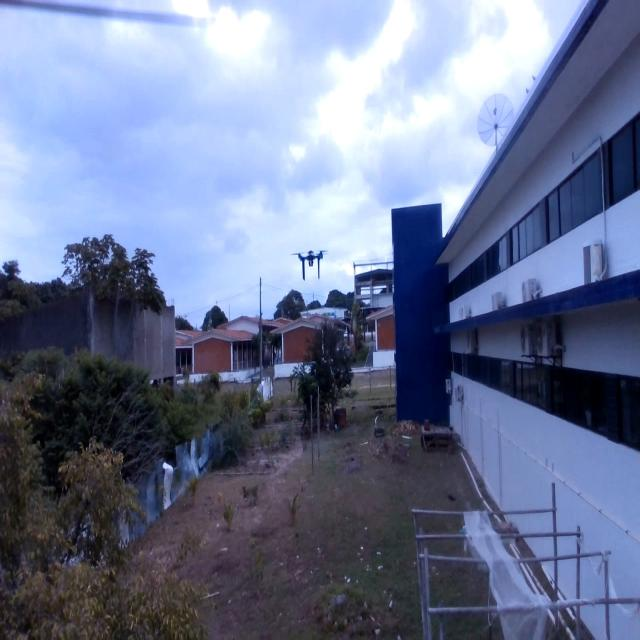-uav-: (286, 240, 336, 283)
